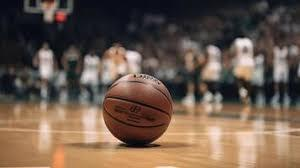basketball: (103, 74, 172, 145)
